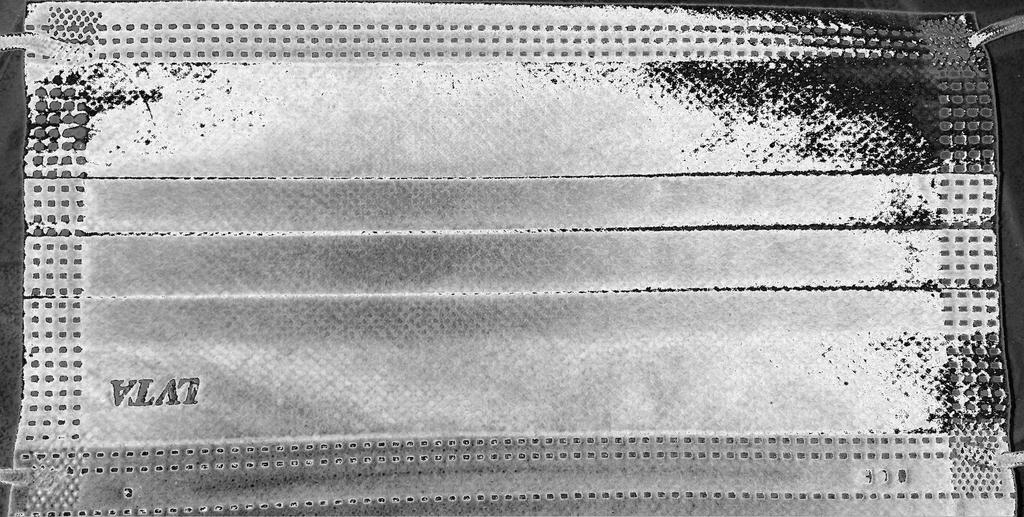High GSM: (75, 57, 958, 450)
